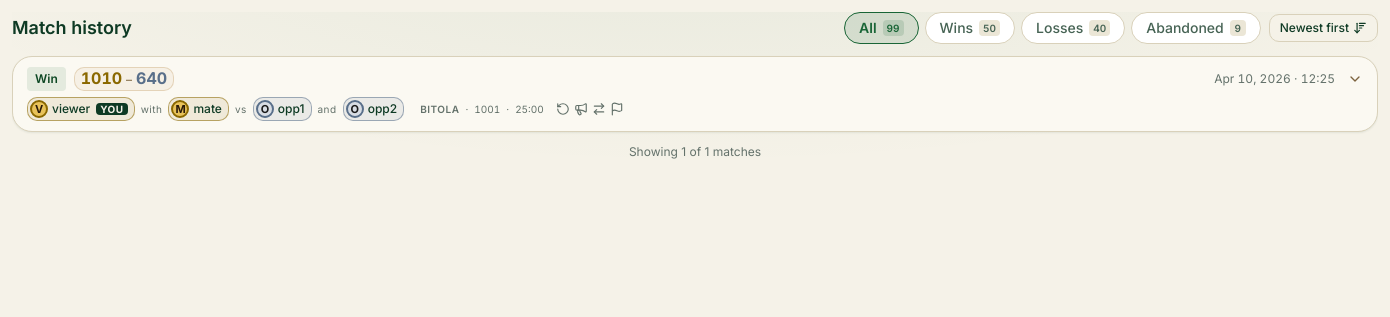
Scenario: MatchHistory › renders Capot badge and failed-contract pill — viewer was on the contracting team → 'Us'
Click the button named "Show hand details" at (1355,79), box left=1343, top=67, right=1367, bottom=91
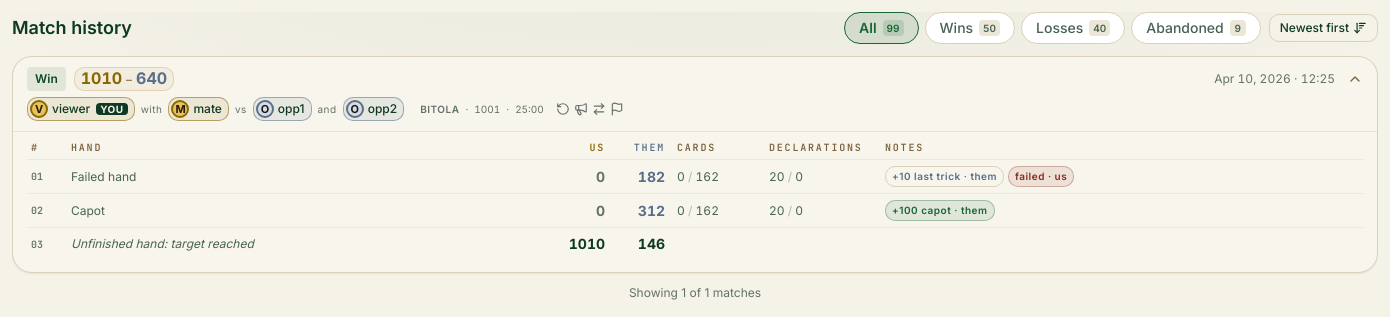
Expected: the text with test id "match-history-hand-failed" does not show "them", left=1008, top=166, right=1074, bottom=187
Expected: the text "+100 capot · them" is shown, left=885, top=200, right=994, bottom=221
Expected: the text with test id "match-history-hand-failed" shows "us", left=1015, top=170, right=1067, bottom=182
